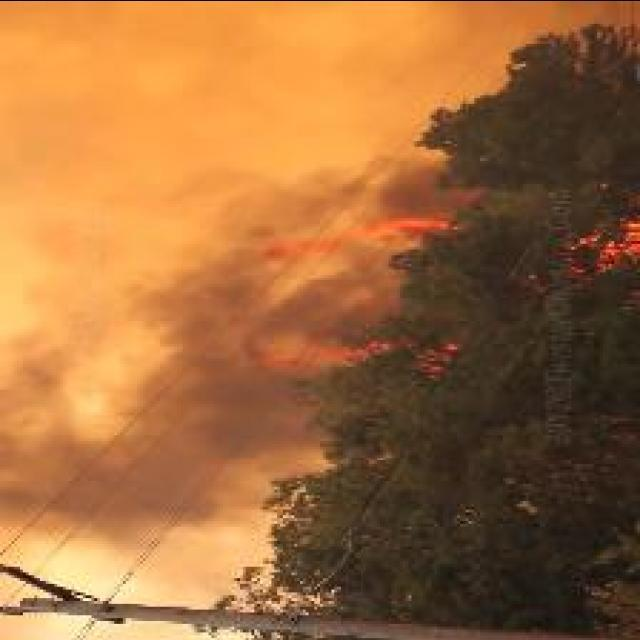Fire: (264, 212, 456, 260), (247, 339, 467, 372)
